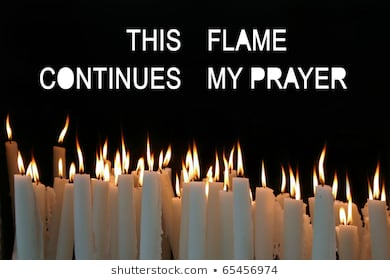Fire: (124, 126, 177, 175), (87, 125, 121, 180), (276, 157, 307, 199), (358, 161, 387, 201), (179, 139, 202, 181), (228, 136, 247, 178), (207, 155, 231, 185), (311, 146, 327, 190), (333, 171, 355, 203), (73, 139, 88, 176), (335, 199, 358, 223), (252, 157, 268, 186), (57, 115, 73, 143), (27, 155, 42, 184), (2, 115, 17, 140), (12, 150, 25, 175), (55, 156, 66, 179), (170, 177, 183, 196), (68, 160, 78, 184)
